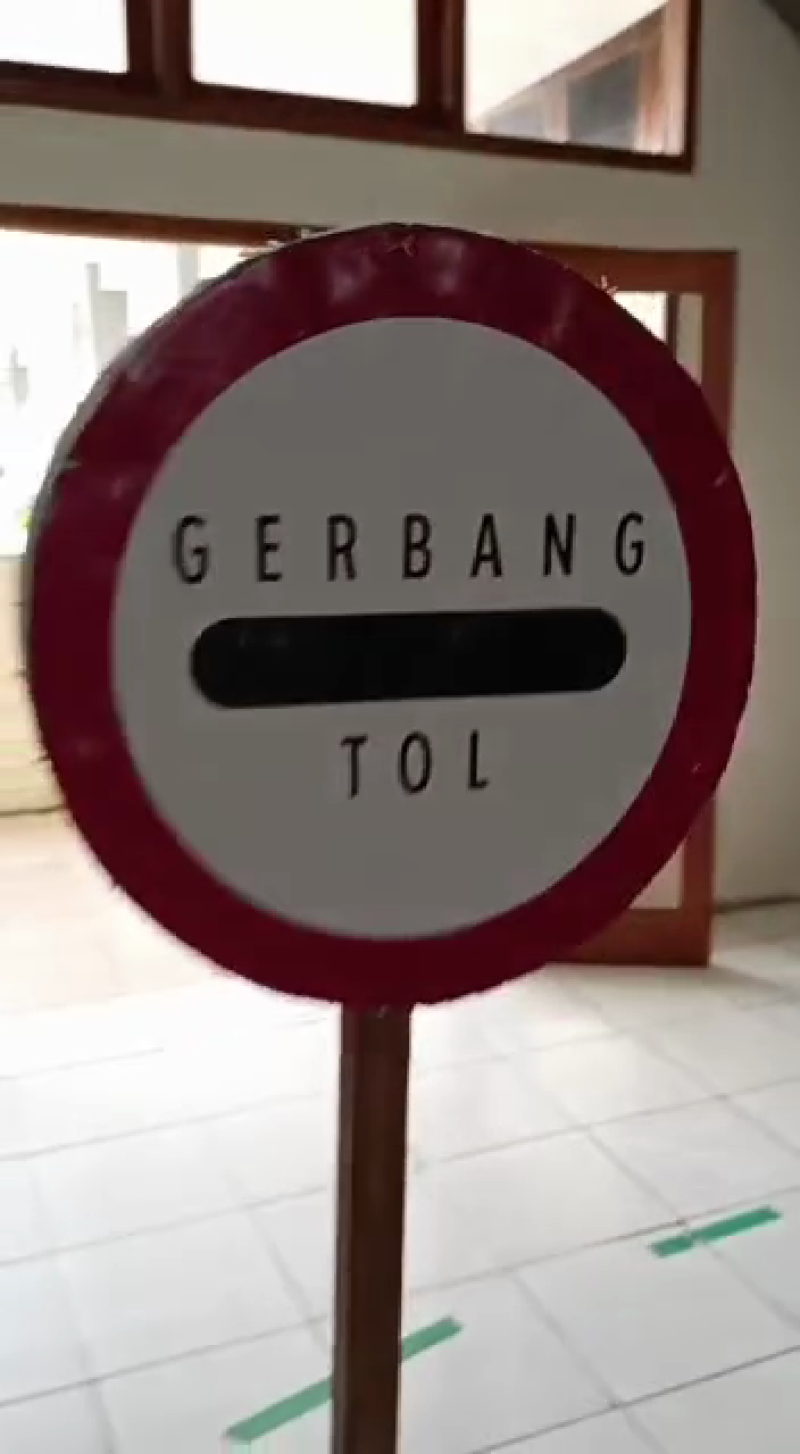gerbang tol: (1, 203, 765, 1009)
